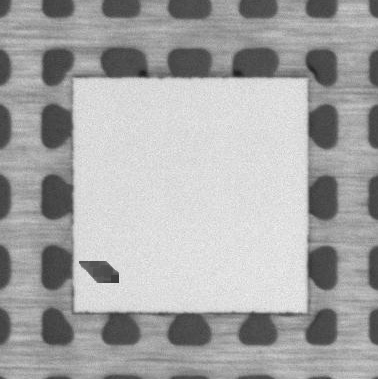DIE_INK: (79, 262, 119, 284)
